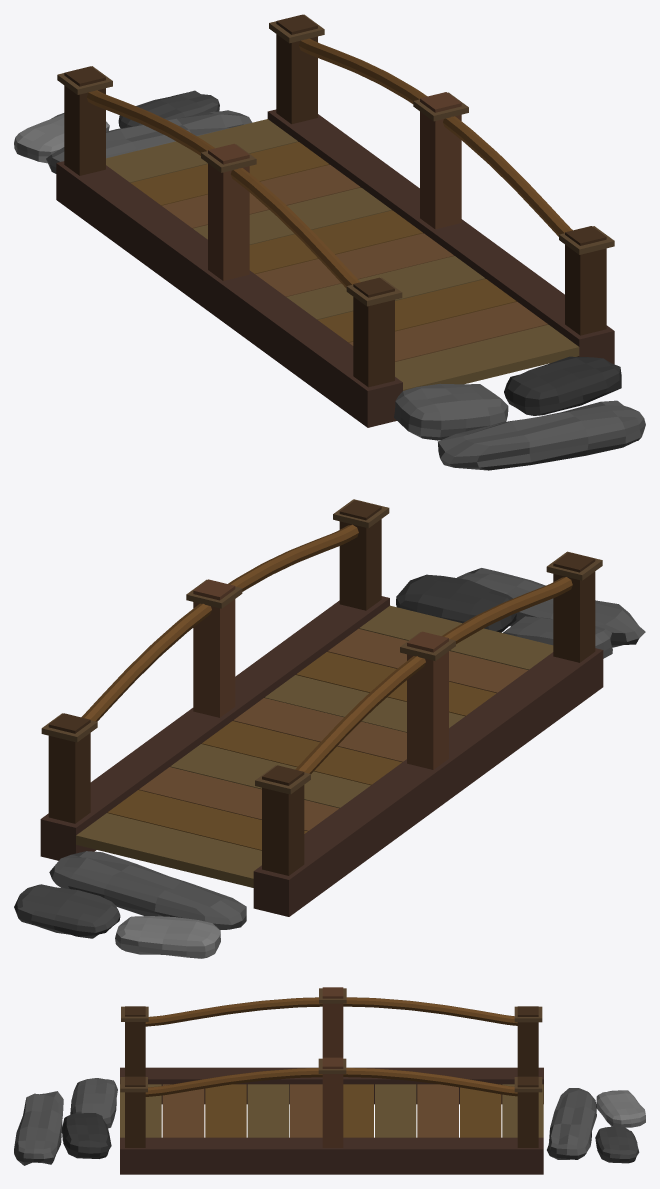
The picture shows the model from 3 angles, top to bottom: view 1: azimuth 30°, elevation 25°; view 2: azimuth 150°, elevation 25°; view 3: azimuth 270°, elevation 25°; orthographic projection. The views are drawn at different scales.
Parts seen in each view (by area): view 1: Cube.011, Cube.012, Cube.015, Cube.009, Cube.008, Cube.016, Cube.006, Circle.001, Cube.002, Cube.003, Cube.021, Cube.001 (+2 smaller); view 2: Cube.011, Cube.012, Cube.015, Cube.008, Cube.009, Cube.016, Circle.001, Cube.001, Cube.004, Cube.003, Cube.005, Cube.021 (+2 smaller); view 3: Cube.011, Circle.001, Cube.012, Cube.009, Cube.008, Cube.015, Cube.016, Cube.006, Cube.001, Cube.003, Cube.002, Cube.021 (+2 smaller).
Boxes of the visible parts, left/top/right/bottom form: Cube.011: left=56, top=109, right=614, bottom=427; Cube.012: left=106, top=119, right=579, bottom=390; Cube.015: left=64, top=14, right=606, bottom=387; Cube.009: left=162, top=164, right=547, bottom=361; Cube.008: left=131, top=142, right=516, bottom=342; Cube.016: left=208, top=92, right=461, bottom=280; Cube.006: left=438, top=400, right=645, bottom=470; Circle.001: left=86, top=38, right=572, bottom=288; Cube.002: left=394, top=383, right=508, bottom=440; Cube.003: left=504, top=356, right=621, bottom=415; Cube.021: left=57, top=14, right=614, bottom=306; Cube.001: left=46, top=110, right=252, bottom=173; Cube.011: left=40, top=596, right=603, bottom=916; Cube.012: left=76, top=605, right=553, bottom=887; Cube.015: left=48, top=500, right=595, bottom=875; Cube.008: left=107, top=652, right=496, bottom=850; Cube.009: left=139, top=628, right=527, bottom=831; Cube.016: left=193, top=579, right=448, bottom=769; Circle.001: left=81, top=524, right=572, bottom=773; Cube.001: left=49, top=851, right=246, bottom=930; Cube.004: left=14, top=884, right=120, bottom=938; Cube.003: left=396, top=574, right=516, bottom=632; Cube.005: left=115, top=916, right=220, bottom=958; Cube.021: left=41, top=499, right=602, bottom=794; Cube.011: left=120, top=1067, right=543, bottom=1174; Circle.001: left=145, top=997, right=517, bottom=1096; Cube.012: left=120, top=1084, right=543, bottom=1137; Cube.009: left=162, top=1084, right=458, bottom=1137; Cube.008: left=205, top=1084, right=501, bottom=1137; Cube.015: left=125, top=1006, right=538, bottom=1147; Cube.016: left=322, top=987, right=343, bottom=1147; Cube.006: left=14, top=1091, right=63, bottom=1165; Cube.001: left=547, top=1088, right=596, bottom=1159; Cube.003: left=62, top=1113, right=111, bottom=1158; Cube.002: left=70, top=1078, right=117, bottom=1128; Cube.021: left=120, top=988, right=542, bottom=1092.
Size of the model in its own units: 140 by 92.26 by 457.
